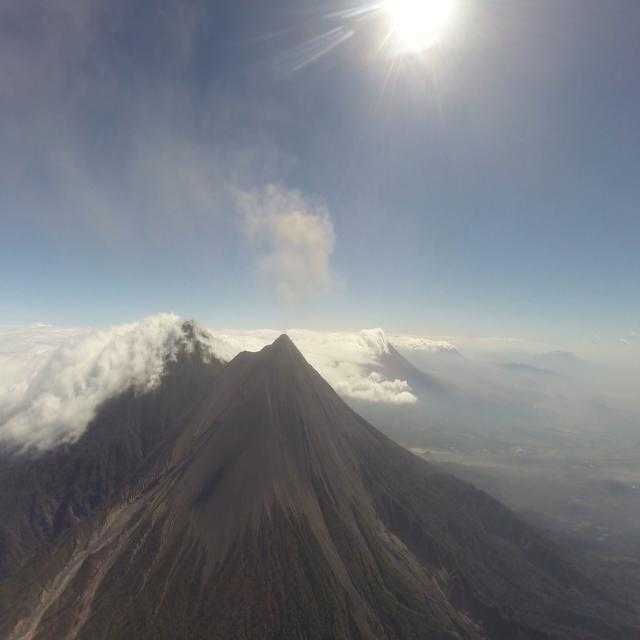Plume: (230, 170, 342, 291)
Summit: (264, 332, 300, 353)
